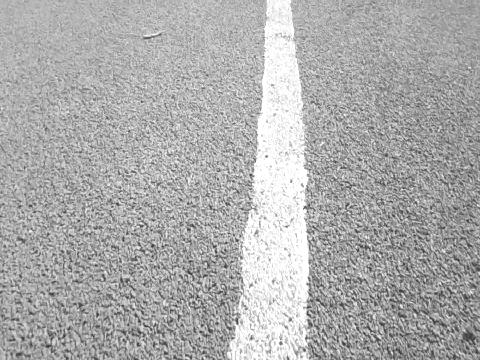Lines: (225, 0, 308, 360)
